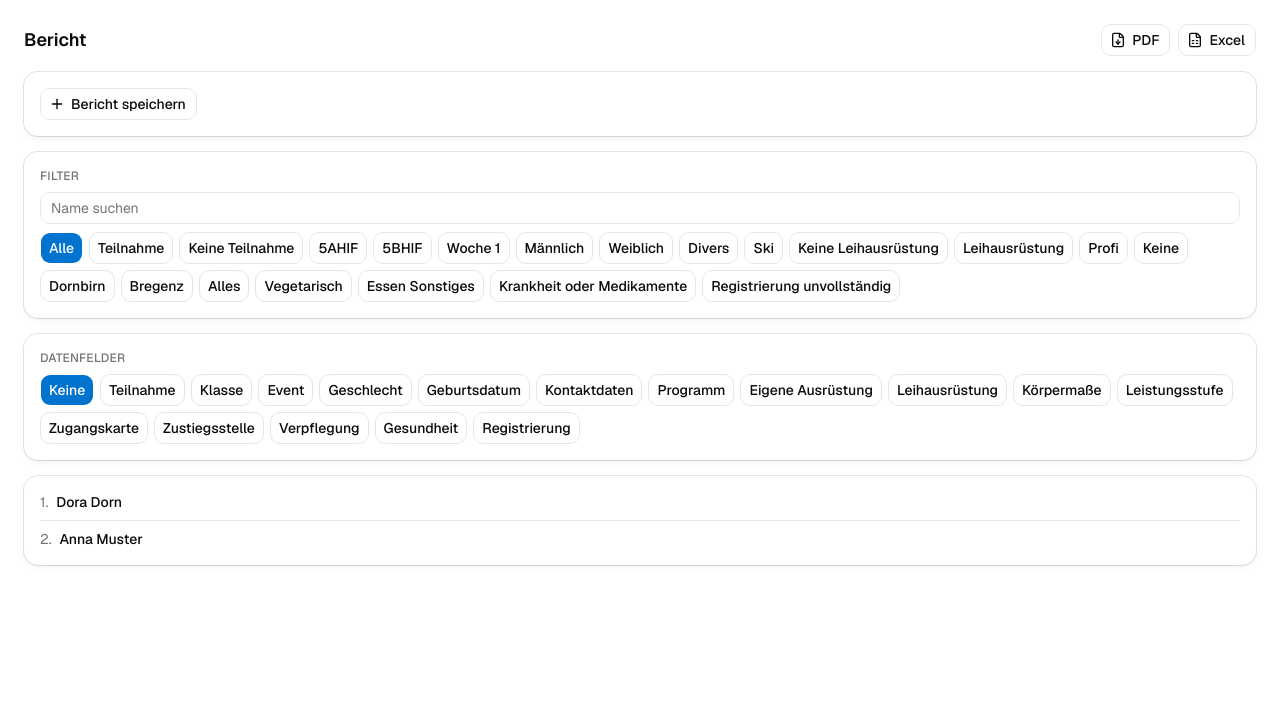
Test case: ReportView › filters by the answers a teacher's own lists supply (US-8, US-9, US-10)
Click the button with aria-label "Zustiegsstelle: Bregenz".
click(157, 286)  # box [128,276,186,296]
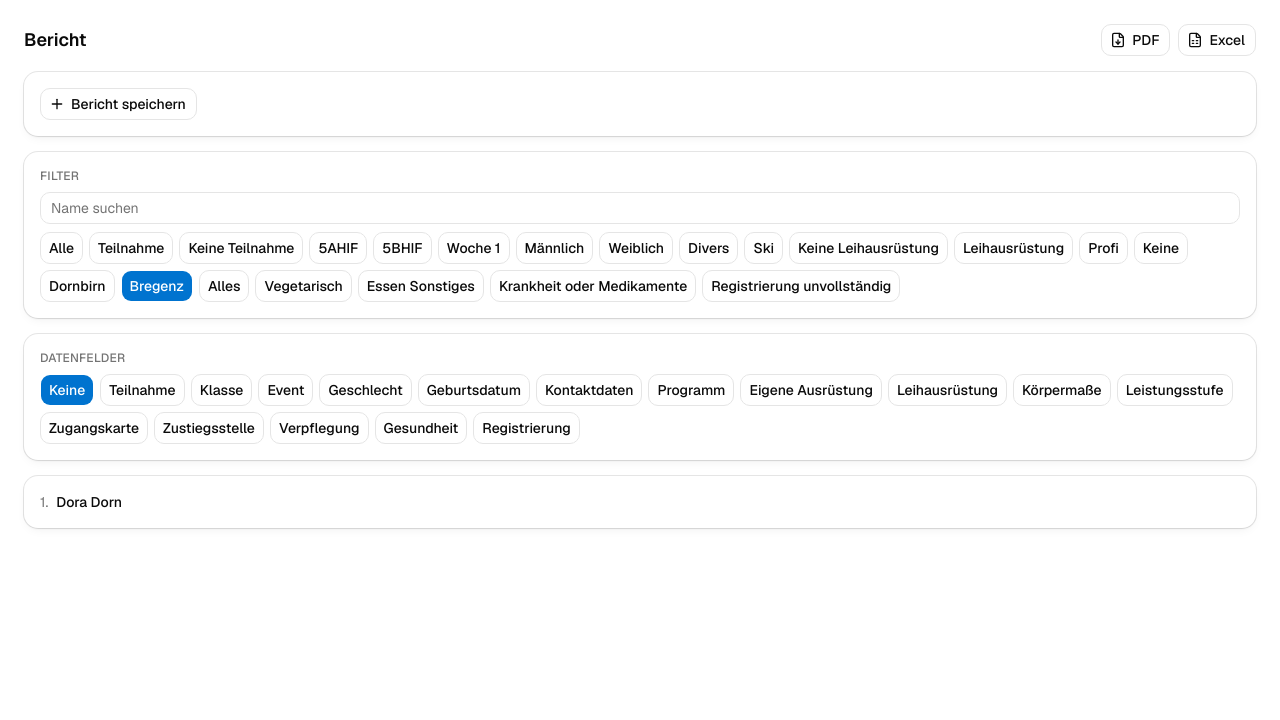
Expected: the number of list items is 1, [40,493,122,511]
